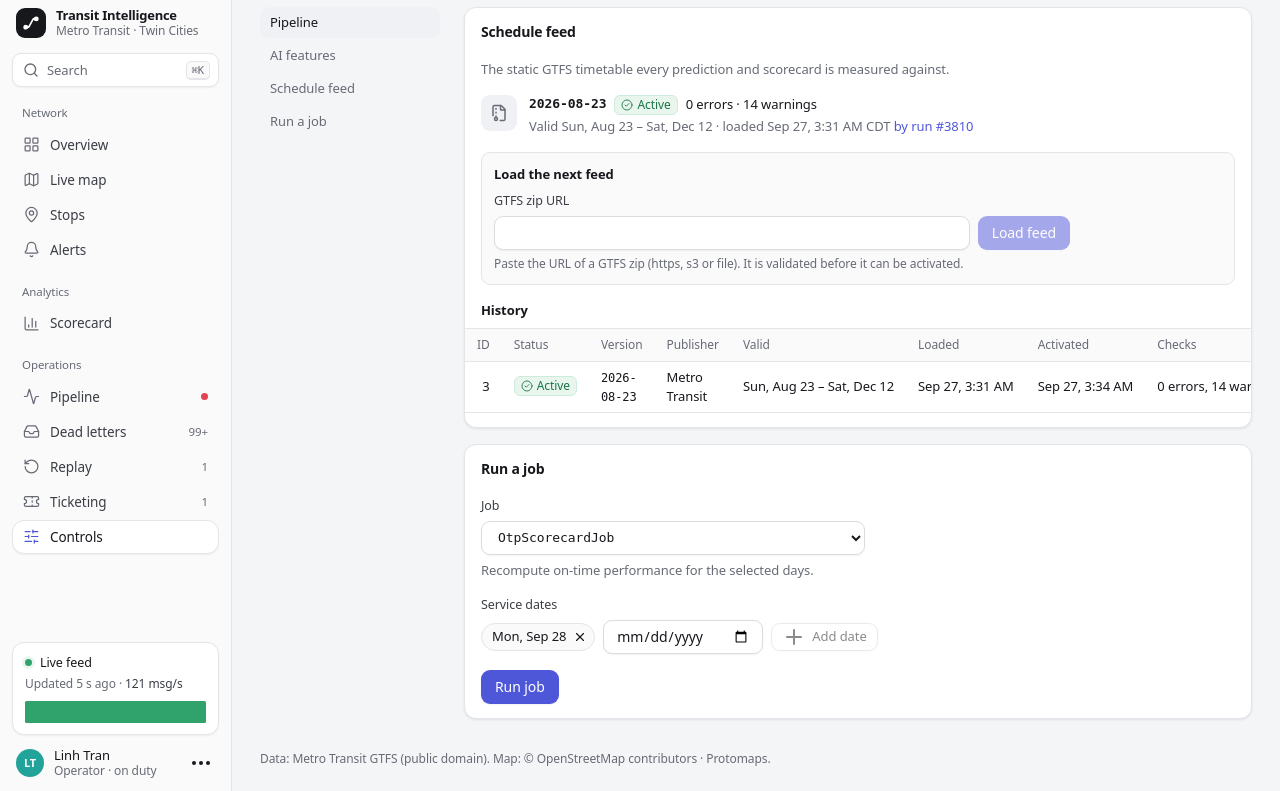
Test: Controls: Run a job › puts the API field errors under the field and job-not-allowed above the form
The image size is (1280, 791).
(page scrolled)
expect the text "Mon, Sep 28" is shown: met, box x1=492 y1=627 x2=566 y2=646
Click the button "Run job".
click(520, 687)  # box x1=481 y1=670 x2=559 y2=704
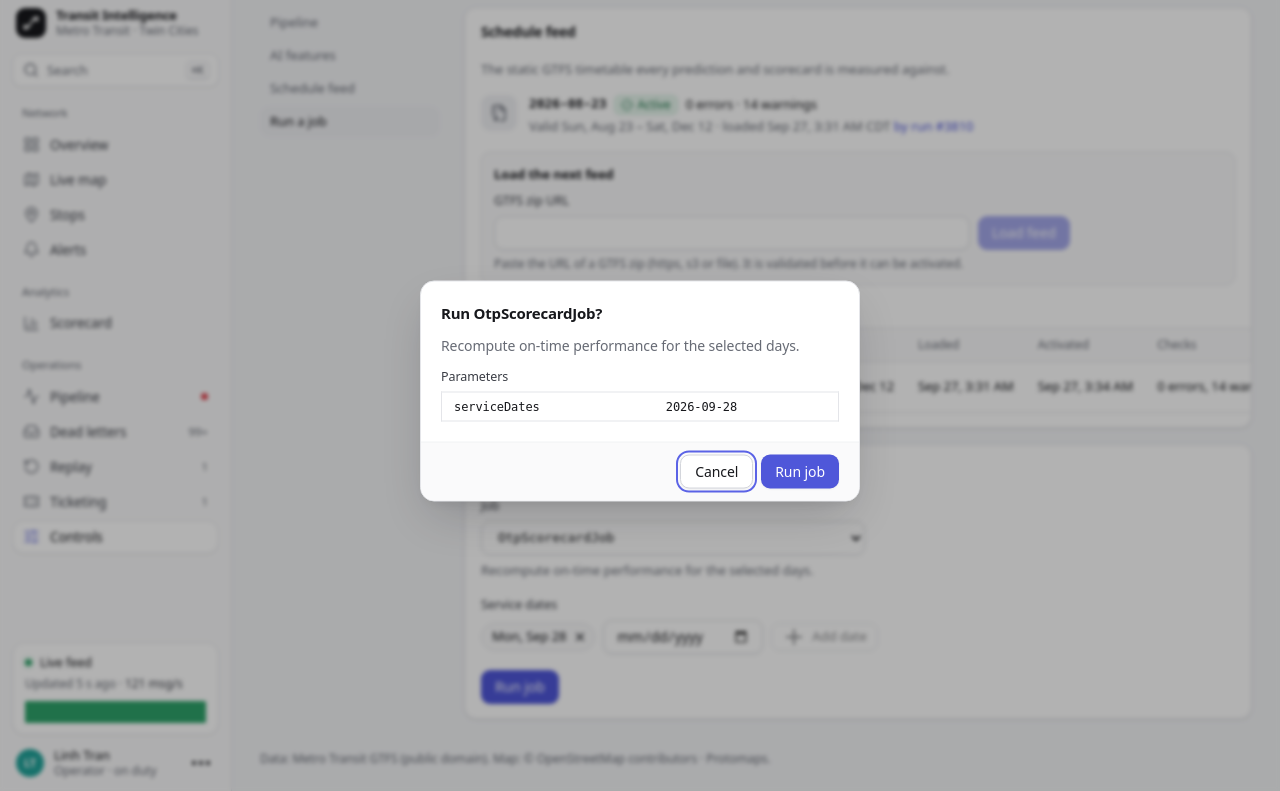
Click the button "Run job".
click(800, 472)  # box x1=761 y1=454 x2=839 y2=488
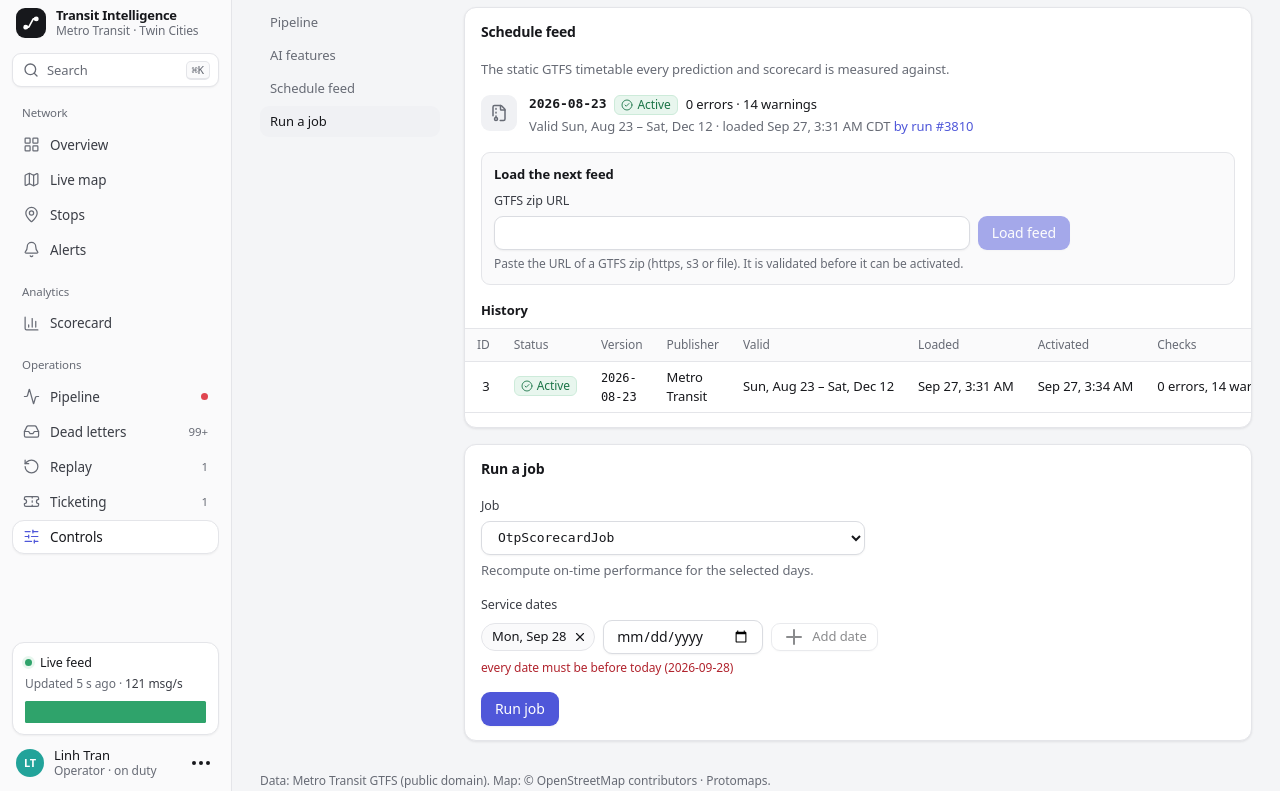
expect the text "every date must be before today (2026-09-28)" is shown: met, box x1=481 y1=659 x2=733 y2=676
expect the dialog is gone: met
Select "PartitionMaintenanceJob" in the dropdown at point(673, 538), box x1=481 y1=521 x2=865 y2=555
(page scrolled)
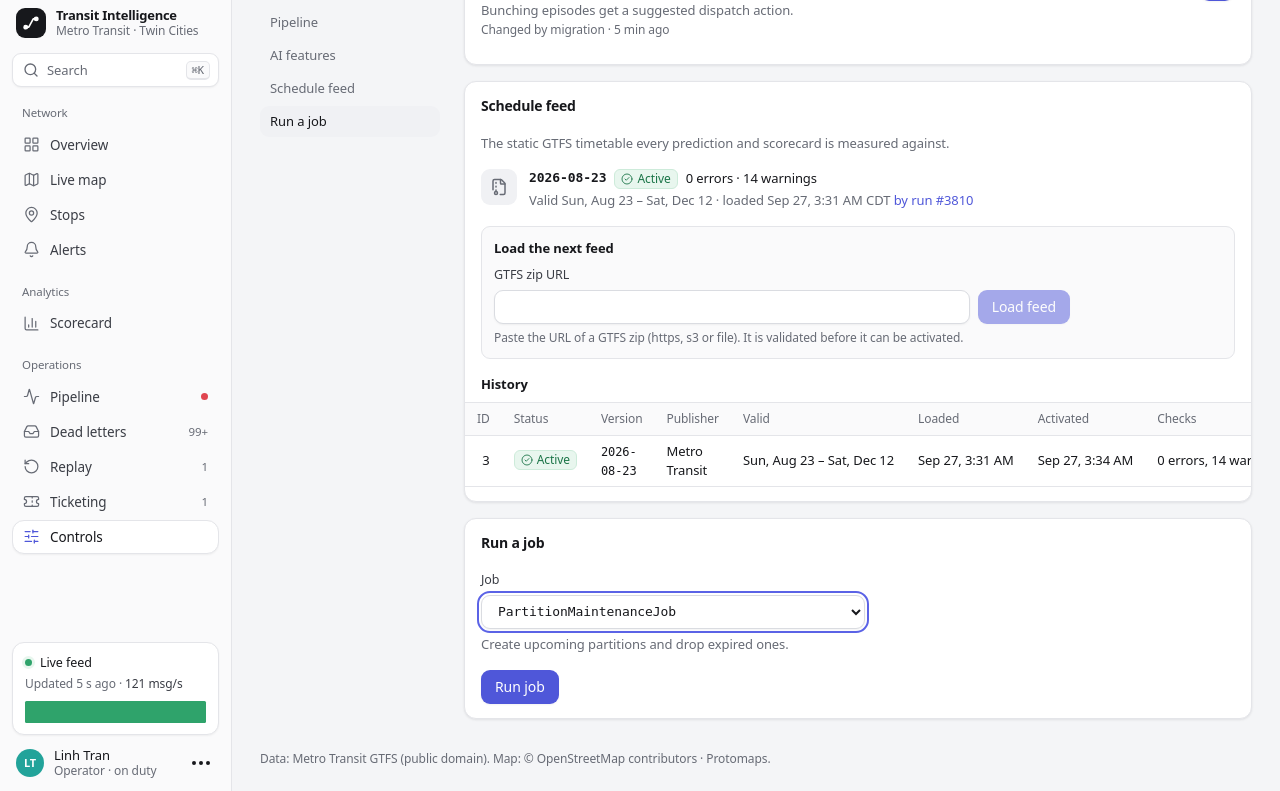
expect the text "Create upcoming partitions and drop expired ones." is shown: met, box x1=481 y1=635 x2=789 y2=653
Click the button "Run job".
click(520, 687)  # box x1=481 y1=670 x2=559 y2=704
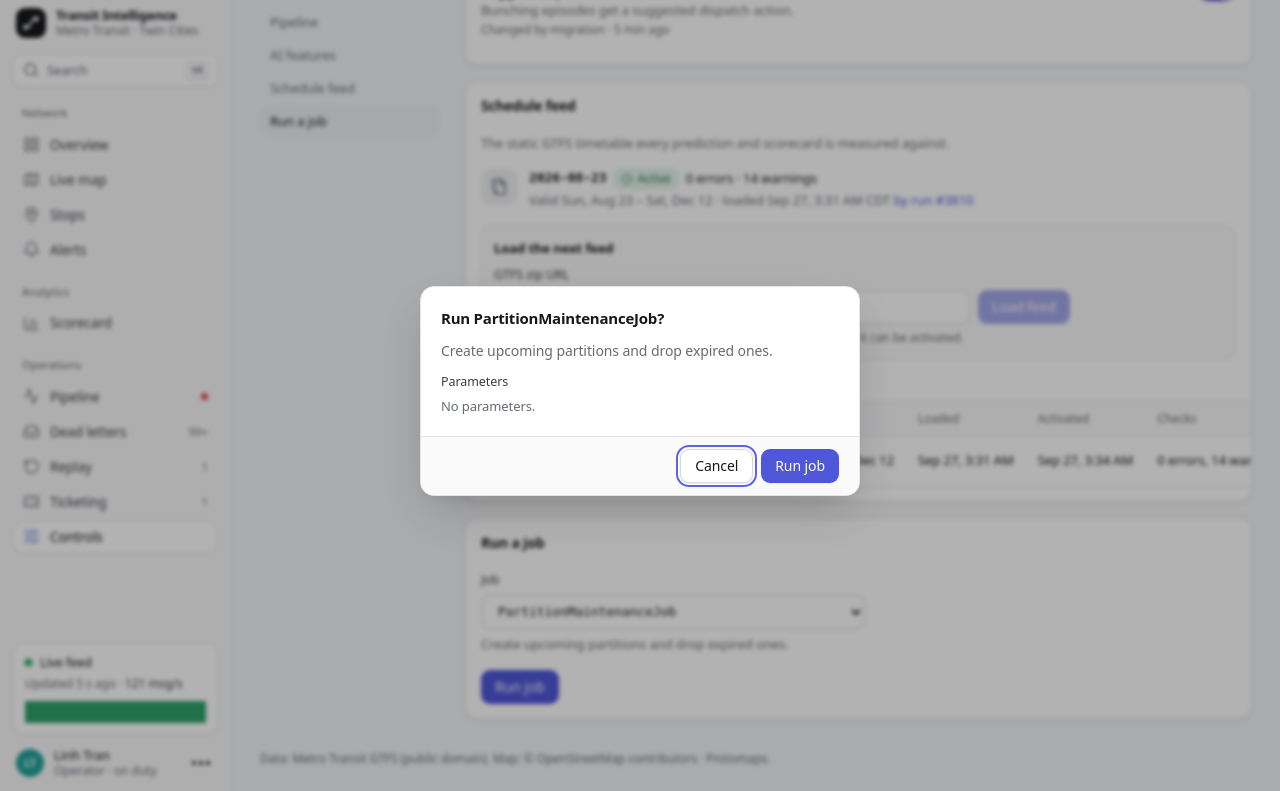
expect the text "No parameters." is shown: met, box x1=441 y1=397 x2=535 y2=415
Click the button "Run job".
click(800, 466)  # box x1=761 y1=449 x2=839 y2=483
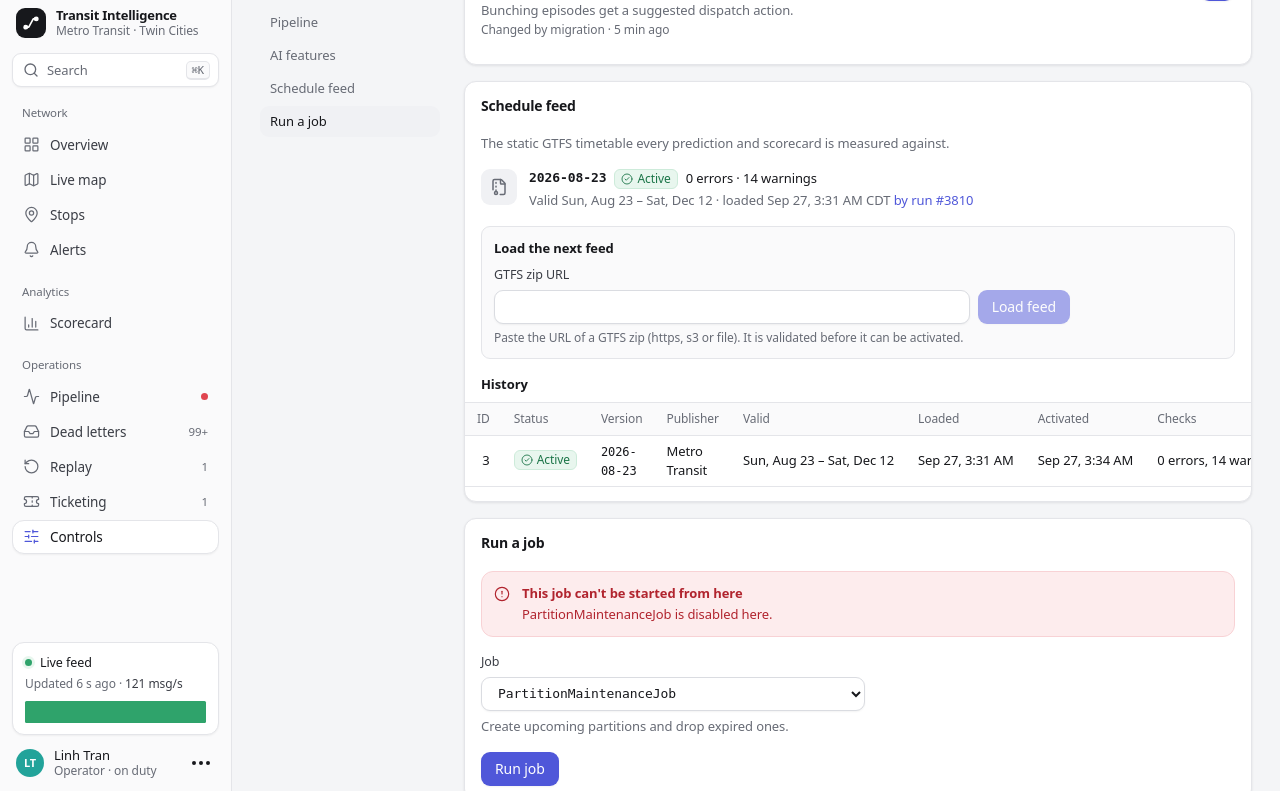
expect the text "PartitionMaintenanceJob is disabled here." is shown: met, box x1=522 y1=605 x2=772 y2=623
